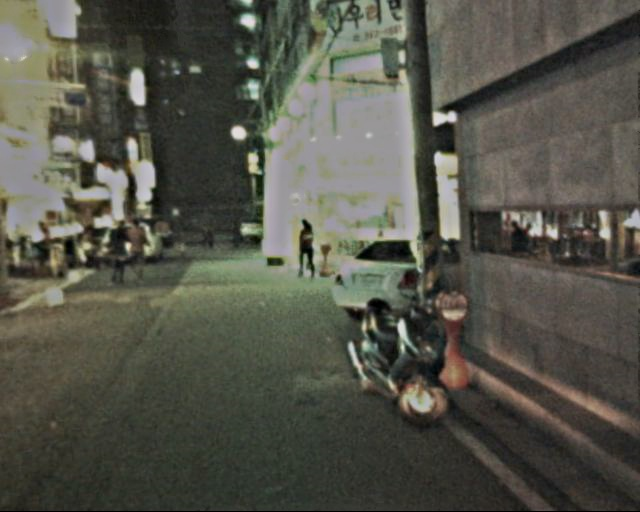person: (124, 219, 155, 284), (295, 216, 324, 278), (104, 222, 131, 284), (167, 207, 189, 256), (150, 211, 171, 260), (197, 207, 218, 251), (225, 210, 242, 252)
